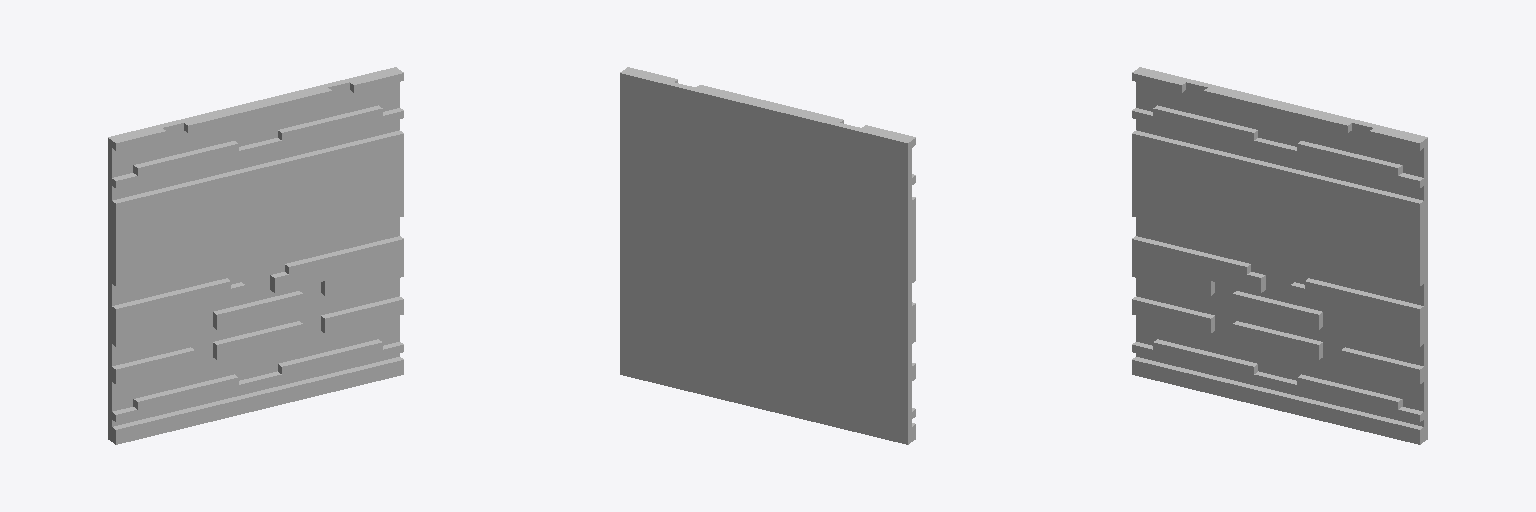
Rendered from Architeture1-19.obj.
The picture shows the model from 3 angles: view 1: azimuth 30°, elevation 25°; view 2: azimuth 150°, elevation 25°; view 3: azimuth 330°, elevation 25°; orthographic projection.
Visible parts, largest first — view 1: object 1; view 2: object 1; view 3: object 1.
Boxes of the visible parts, <box> form: object 1: <box>108,67,403,444</box>; object 1: <box>620,67,915,444</box>; object 1: <box>1132,67,1427,444</box>.
Bounding box in the file's own units: 4 × 4 × 0.2.